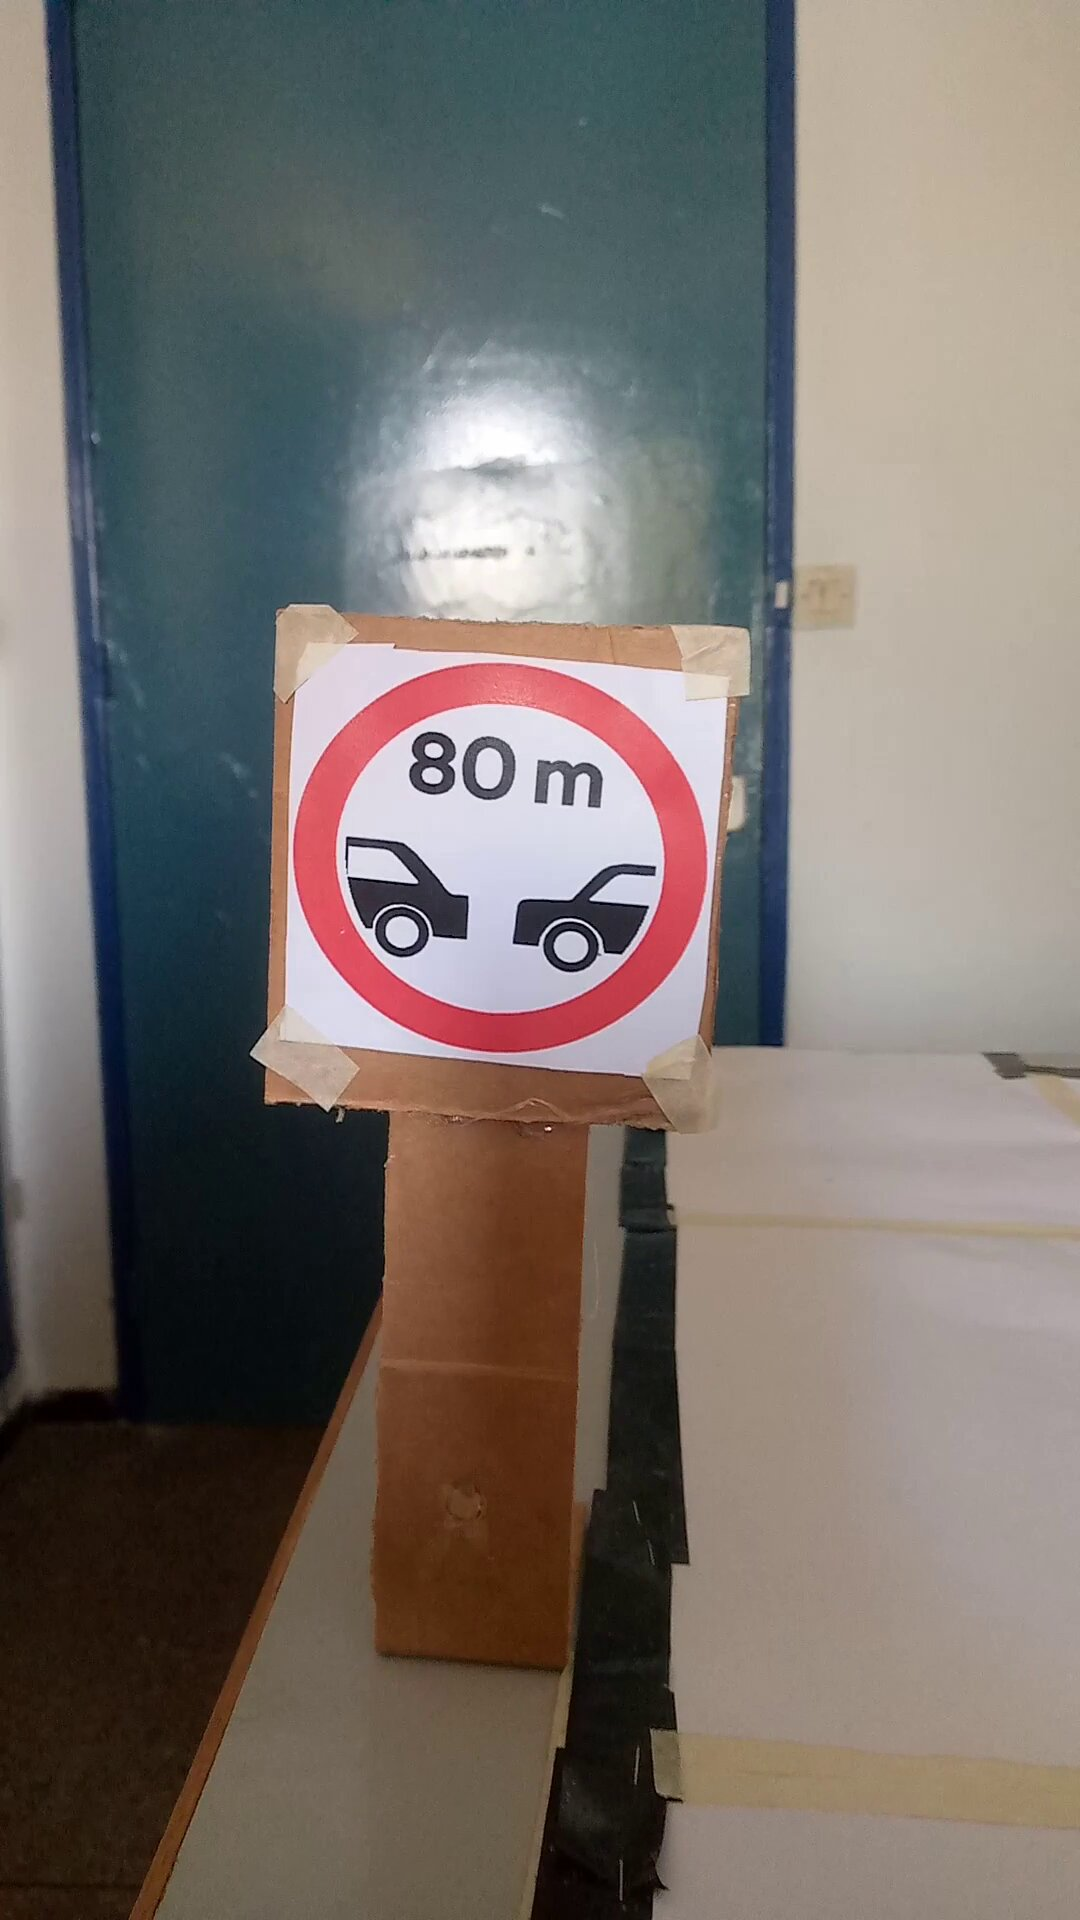panel001: (264, 603, 741, 1129)
